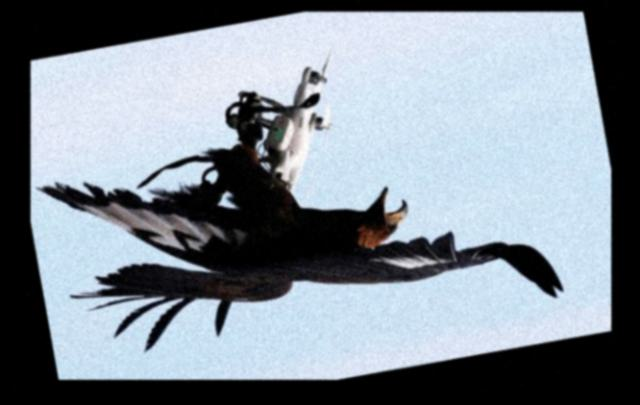Bird: (38, 82, 572, 349)
UAV: (260, 47, 335, 194)
